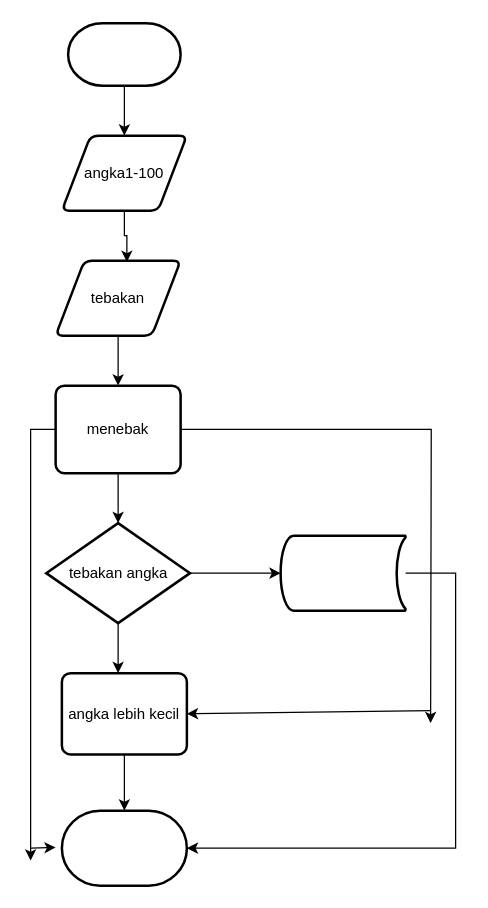
Image size: 488x908. Some labels were removed from this diagram. Each missing label, with the centre of its shape:
"end" belongs at pixel 124 847.
"menang" belongs at pixel 342 572.
"start" belongs at pixel 123 53.
